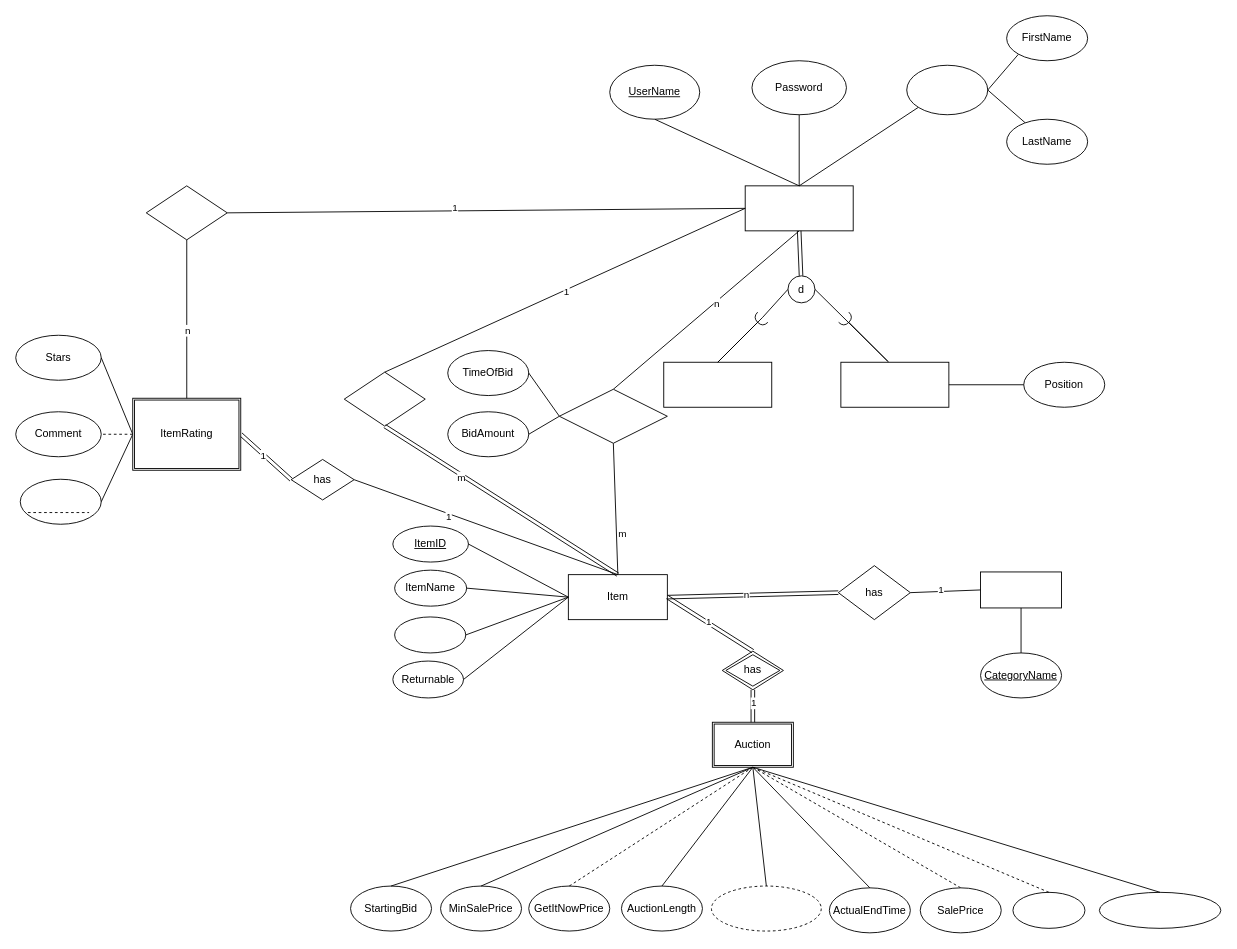
Some shapes in this 1237 by 949 pixel diagram are drawn without their labels. Here are the shapes that lost their labels. From the top down, the box of each, then its label:
(906, 64, 988, 115): Name
(145, 185, 227, 240): rates
(744, 185, 853, 231): User
(343, 371, 425, 426): list
(663, 361, 772, 407): RegularUser
(840, 361, 949, 407): AdminUser
(558, 388, 667, 443): bid
(19, 478, 101, 524): RateDateTime
(980, 571, 1062, 608): Category
(394, 616, 466, 653): Description
(711, 885, 821, 931): ScheduledEndTime
(1012, 891, 1085, 928): Reason
(1098, 891, 1221, 928): CancellationDateTime
